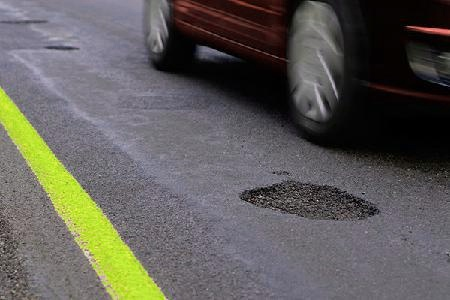pothole: (236, 178, 379, 220), (41, 41, 78, 50), (269, 168, 289, 176)
